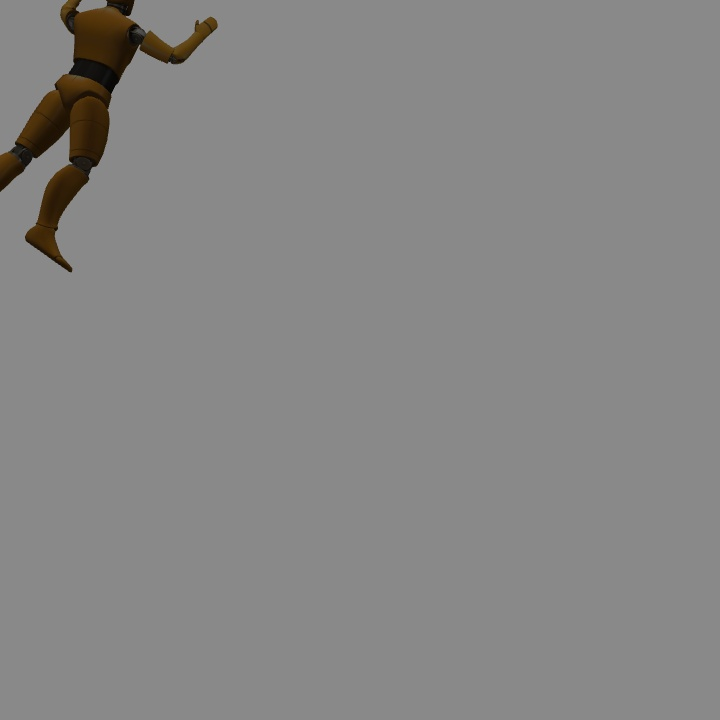victim: (3, 1, 143, 273)
